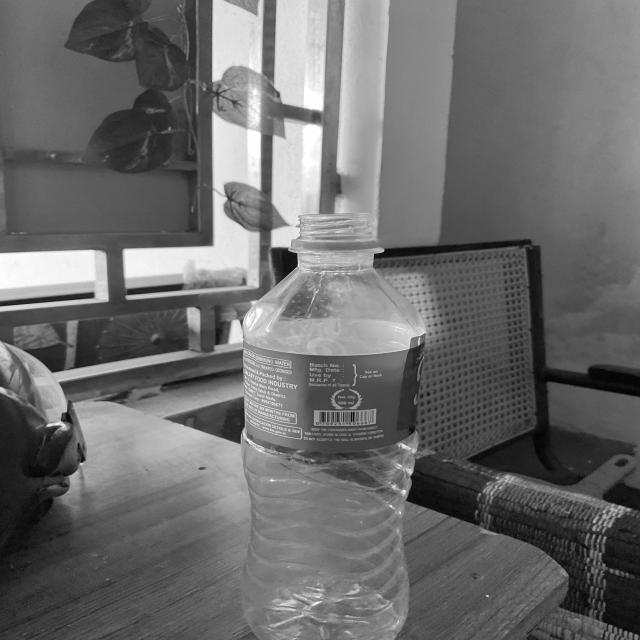open-cap: (292, 209, 380, 255)
